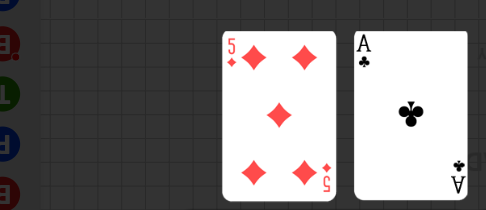5D: (226, 36, 238, 69)
AC: (449, 157, 466, 195)
